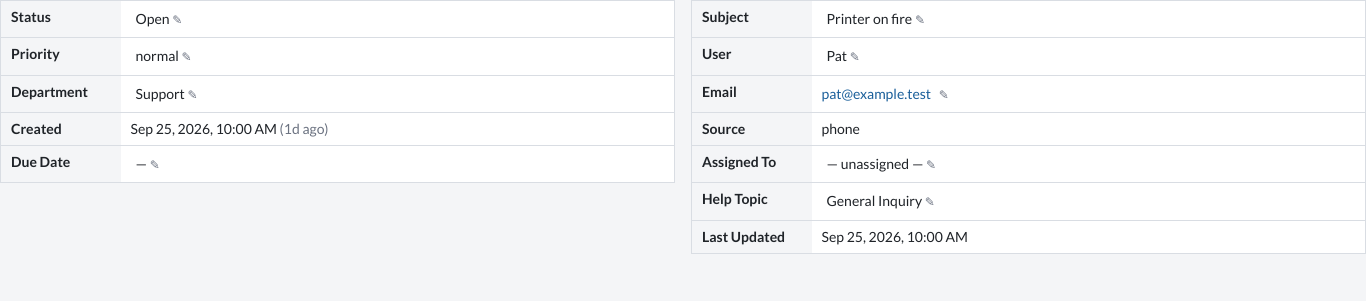
Test: resets a cancelled draft when the editor reopens
Click the button "Printer on fire ✎": coordinates (876, 19) top-left (822, 7), bottom-right (930, 31)
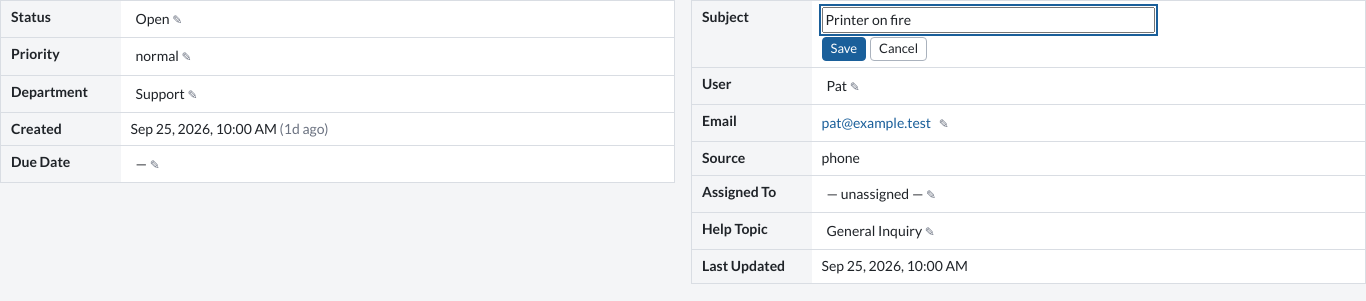
In the field named "Subject editor": coordinates (988, 20) top-left (822, 7), bottom-right (1155, 33), type " discarded"
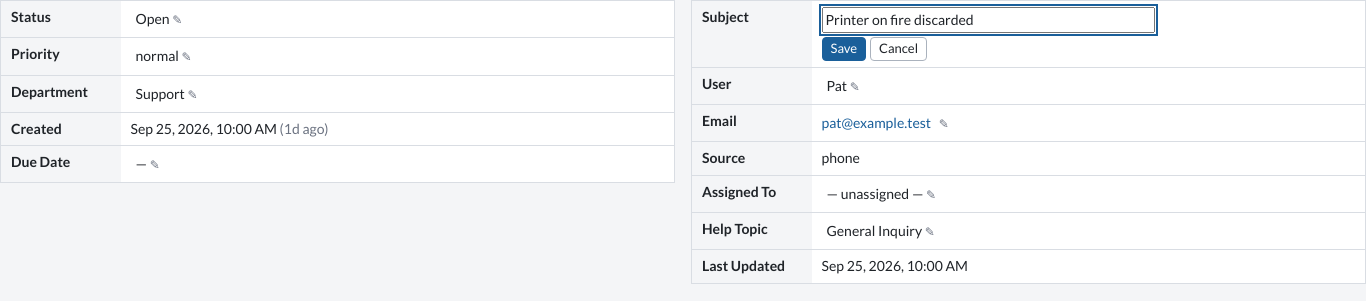
Click the button "Cancel": coordinates (899, 49) top-left (870, 37), bottom-right (927, 61)
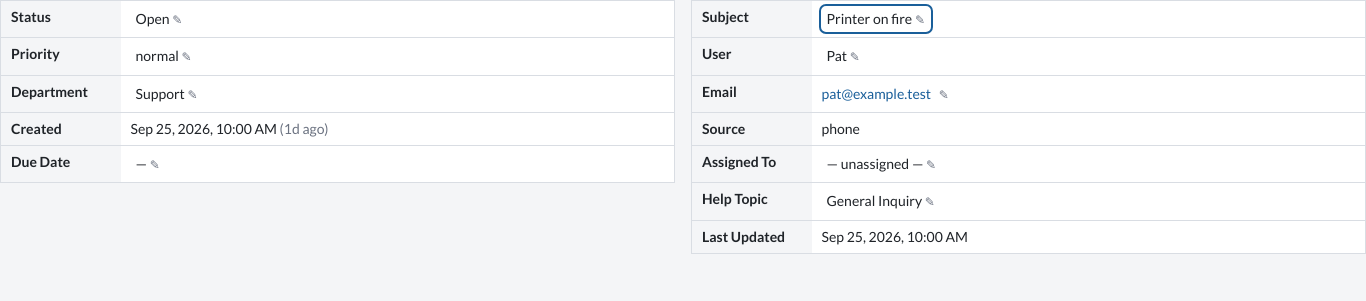
Click the button "Printer on fire ✎": coordinates (876, 19) top-left (822, 7), bottom-right (930, 31)
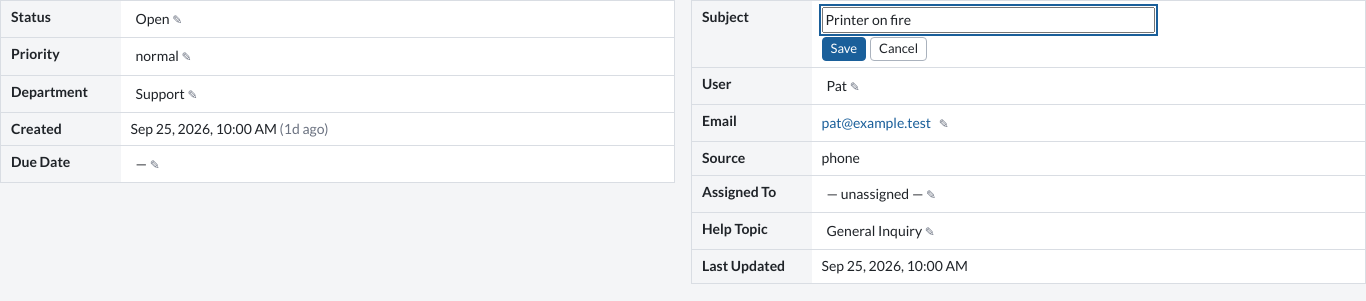
Expected: the field named "Subject editor" holds "Printer on fire", top-left (822, 7), bottom-right (1155, 33)
